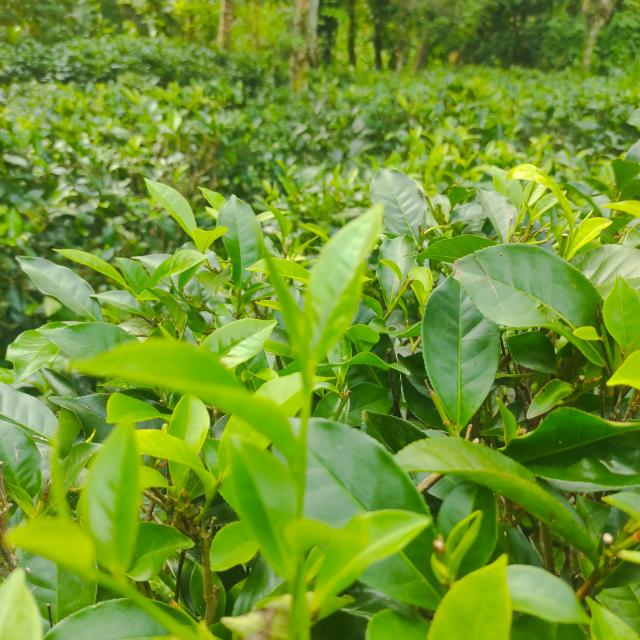unopened_leaf: (251, 235, 315, 373), (435, 504, 489, 578), (45, 416, 76, 537), (568, 208, 596, 242)
